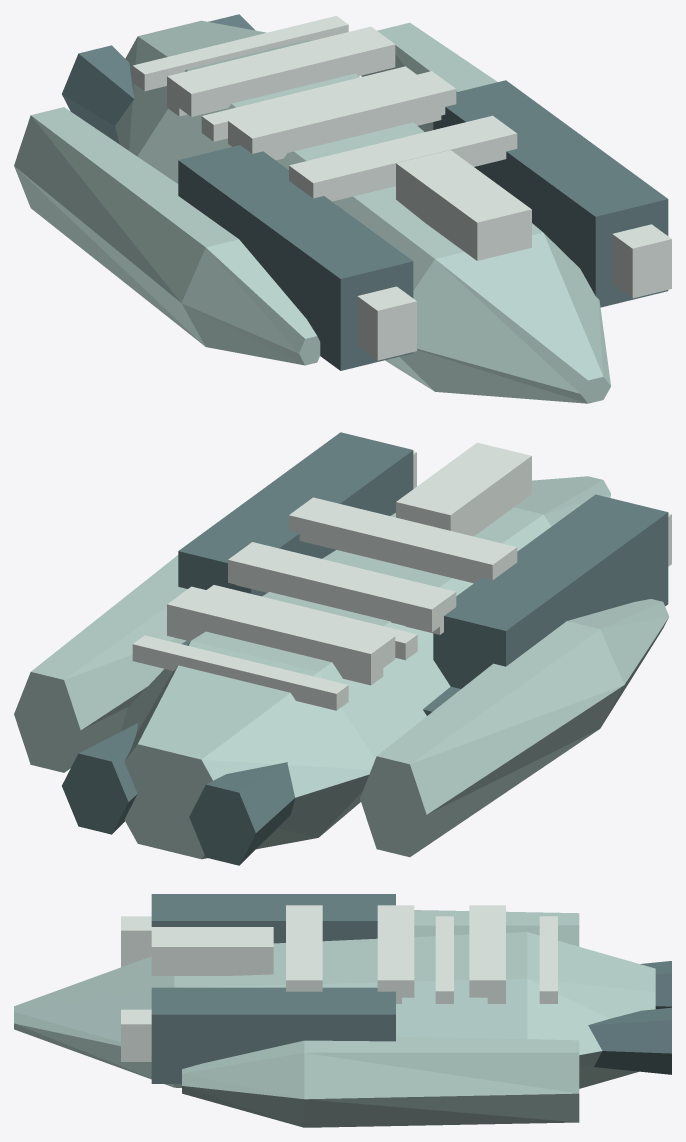
3 views of the same model, one above another, from view 1: azimuth 30°, elevation 25°; view 2: azimuth 150°, elevation 25°; view 3: azimuth 270°, elevation 25° (orthographic). The views are drawn at different scales.
Size of the model in its own units: 2.39 by 0.9831 by 4.09.
